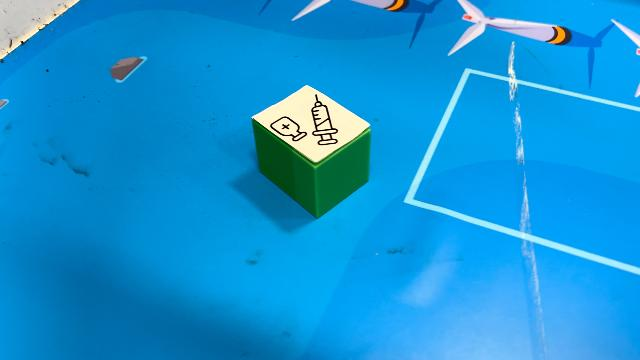syringe: (252, 84, 372, 220)
